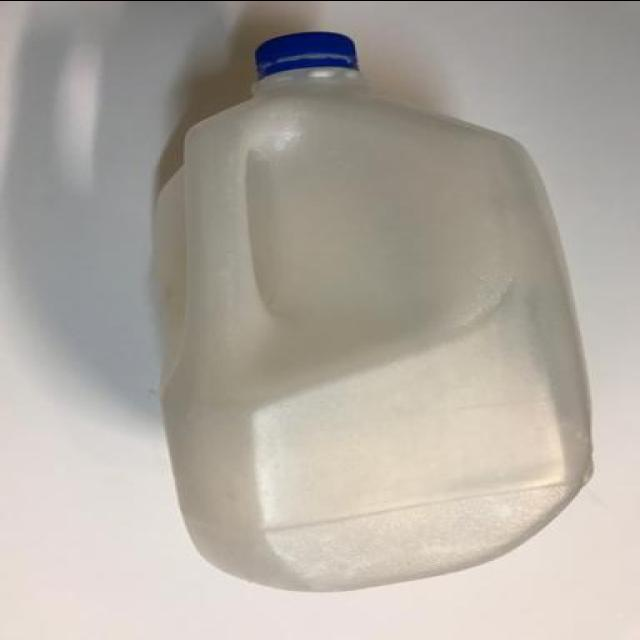litter: (152, 30, 596, 594)
